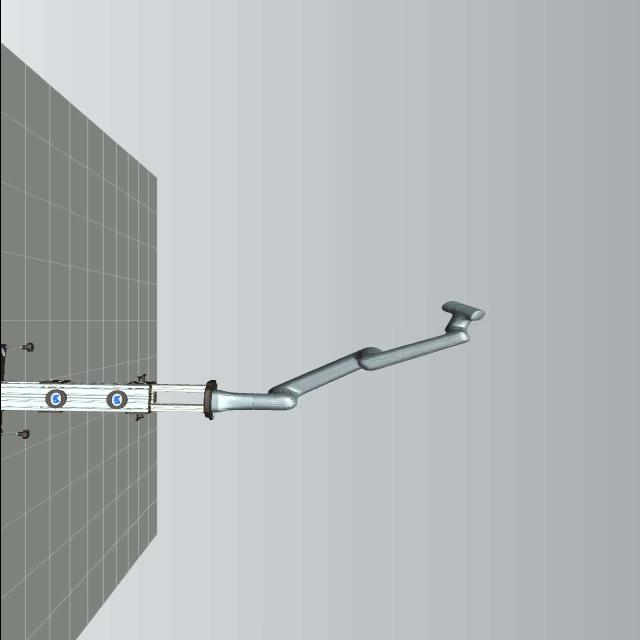robot: (194, 292, 487, 440)
